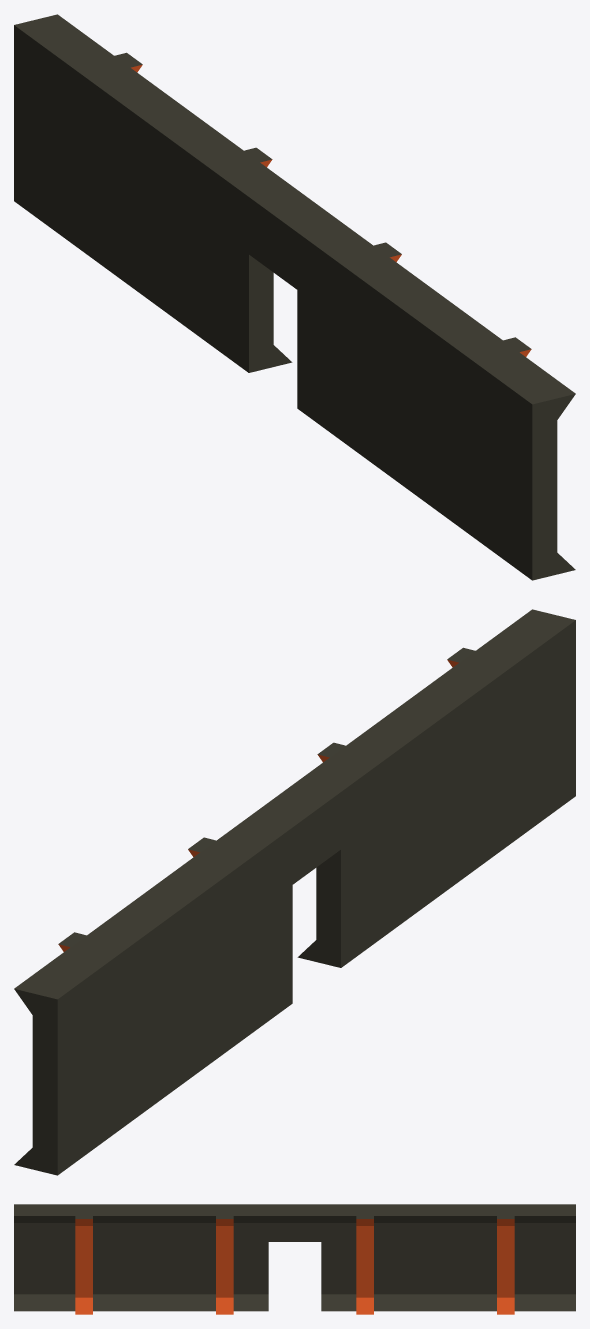
File: WallLongDoor.fbx
The picture shows the model from 3 angles, top to bottom: view 1: azimuth 30°, elevation 25°; view 2: azimuth 150°, elevation 25°; view 3: azimuth 270°, elevation 25°; orthographic projection. The views are drawn at different scales.
Visible parts, largest first — view 1: WallDoor; view 2: WallDoor; view 3: WallDoor.
Boxes of the visible parts, x1,y1,x2,y2 form: WallDoor: (14,14,575,580); WallDoor: (14,609,575,1175); WallDoor: (14,1204,575,1314).
Bounding box in the file's own units: 100 × 300 × 1600.
